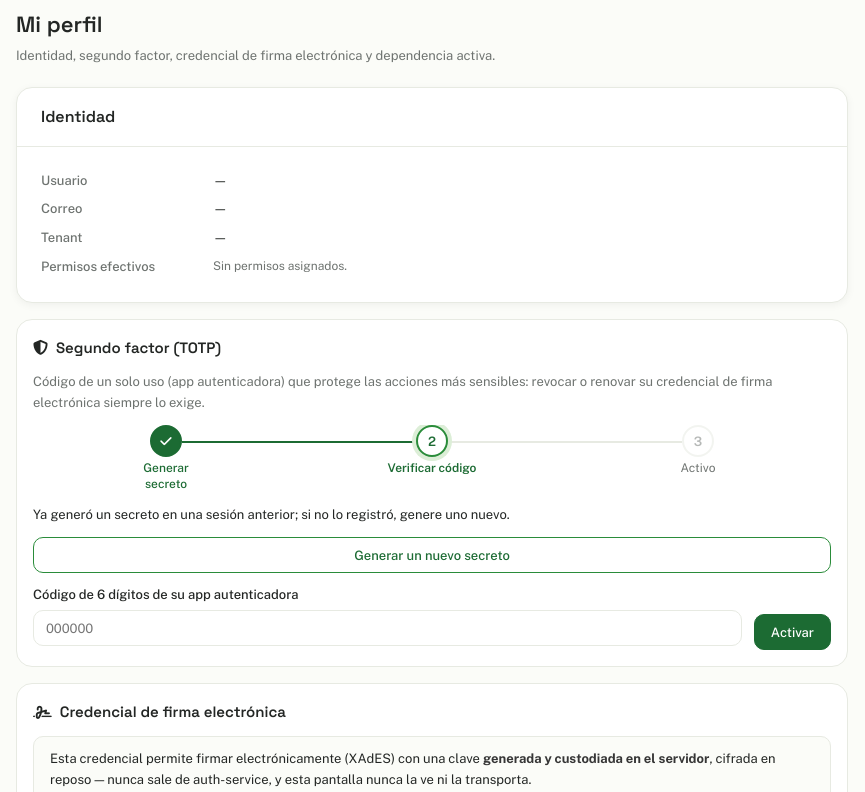
it: /perfil — errores de validación asociados al campo › código TOTP con formato inválido: marca aria-invalid y asocia el mensaje por aria-describedby (no solo toast)
In the field labelled "Código de 6 dígitos de su app autenticadora": (387, 628) [33,610,742,646], type "12"
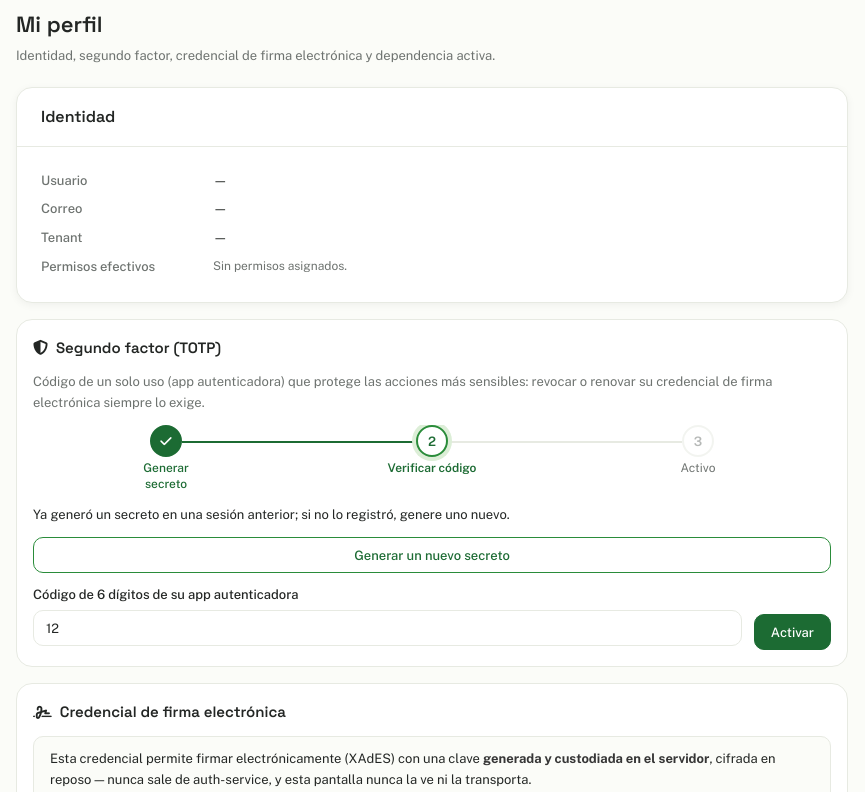
Click the 2nd button named "activar": (792, 632) [754,614,831,650]
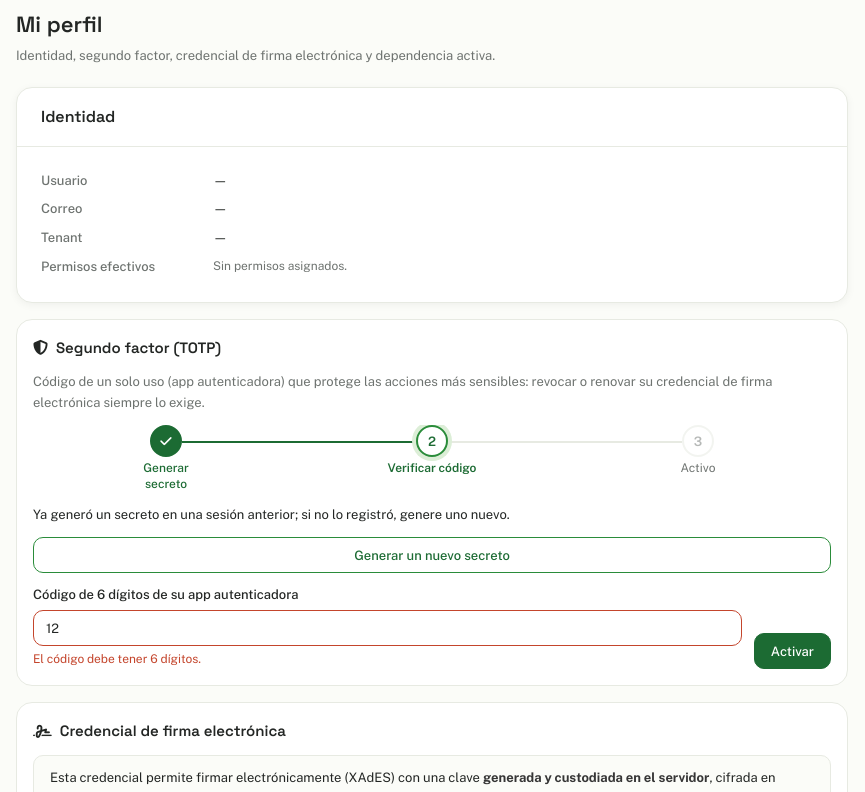
Now the text "El código debe tener 6 dígitos." is shown, box [33,652,201,666]
